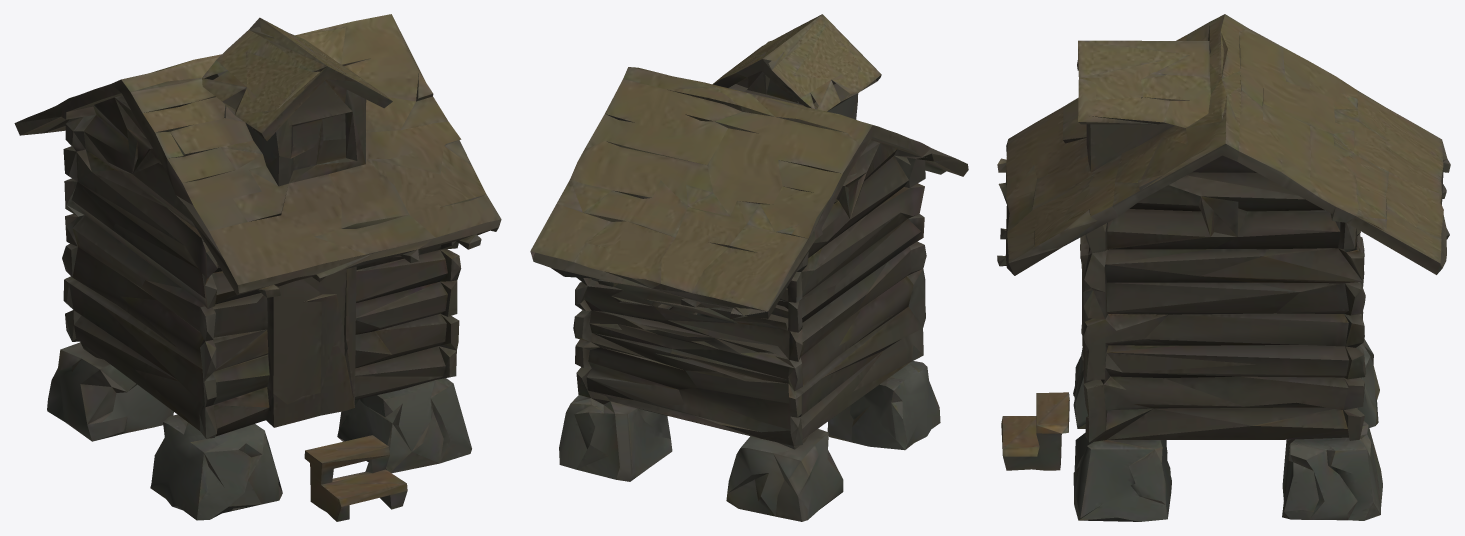
The model's file is stabbur.glb.
3 renders of one model, left to right at view 1: azimuth 30°, elevation 25°; view 2: azimuth 150°, elevation 25°; view 3: azimuth 270°, elevation 25°, orthographic. The views are drawn at different scales.
Visible parts, largest first — view 1: mesh_node; view 2: mesh_node; view 3: mesh_node.
Part boxes in pixels (<box>): mesh_node: <box>14,14,501,521</box>; mesh_node: <box>530,14,968,521</box>; mesh_node: <box>997,14,1450,521</box>.
Bounding box in the file's own units: 1.33 × 1.9 × 1.9.
1 material, 1 textured.
